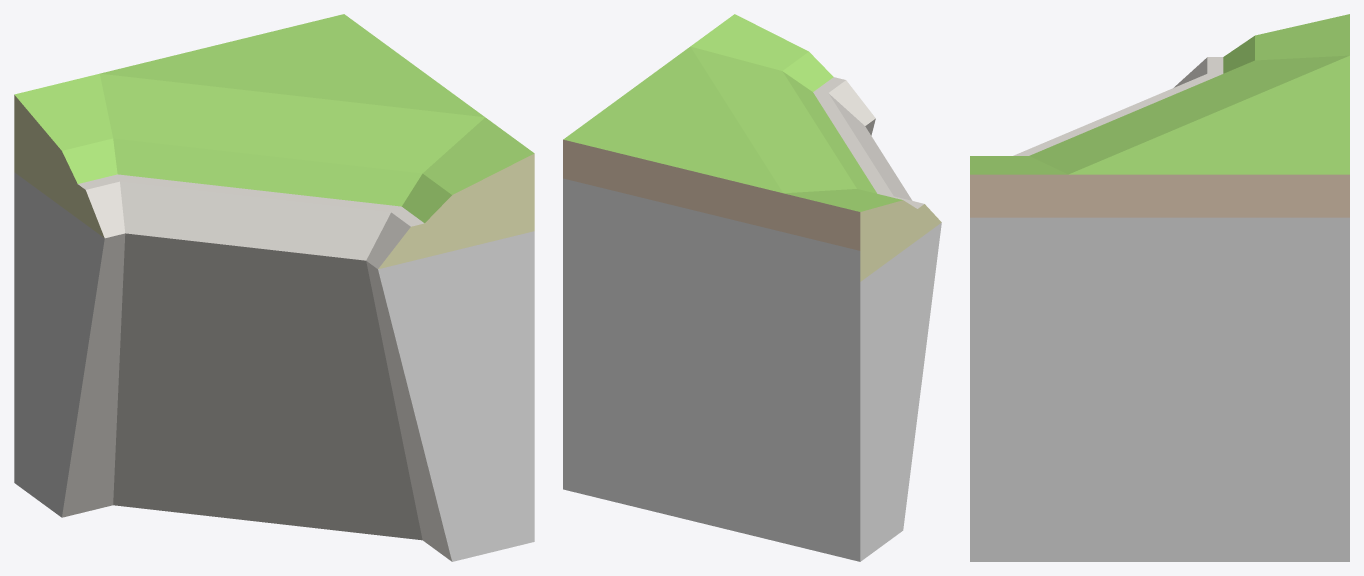
File: Basic_Curve_Inner_2x2_Wide_Top.fbx
3 renders of one model, left to right at view 1: azimuth 30°, elevation 25°; view 2: azimuth 150°, elevation 25°; view 3: azimuth 270°, elevation 25°, orthographic. The views are drawn at different scales.
Visible parts, largest first — view 1: Basic_Curve_Inner_2x2_Wide_Top; view 2: Basic_Curve_Inner_2x2_Wide_Top; view 3: Basic_Curve_Inner_2x2_Wide_Top.
Part boxes in pixels (x1,y1,x2,y2): Basic_Curve_Inner_2x2_Wide_Top: (14, 14, 534, 561); Basic_Curve_Inner_2x2_Wide_Top: (563, 14, 941, 561); Basic_Curve_Inner_2x2_Wide_Top: (970, 14, 1349, 561).
Bounding box in the file's own units: 200 × 225 × 200.
